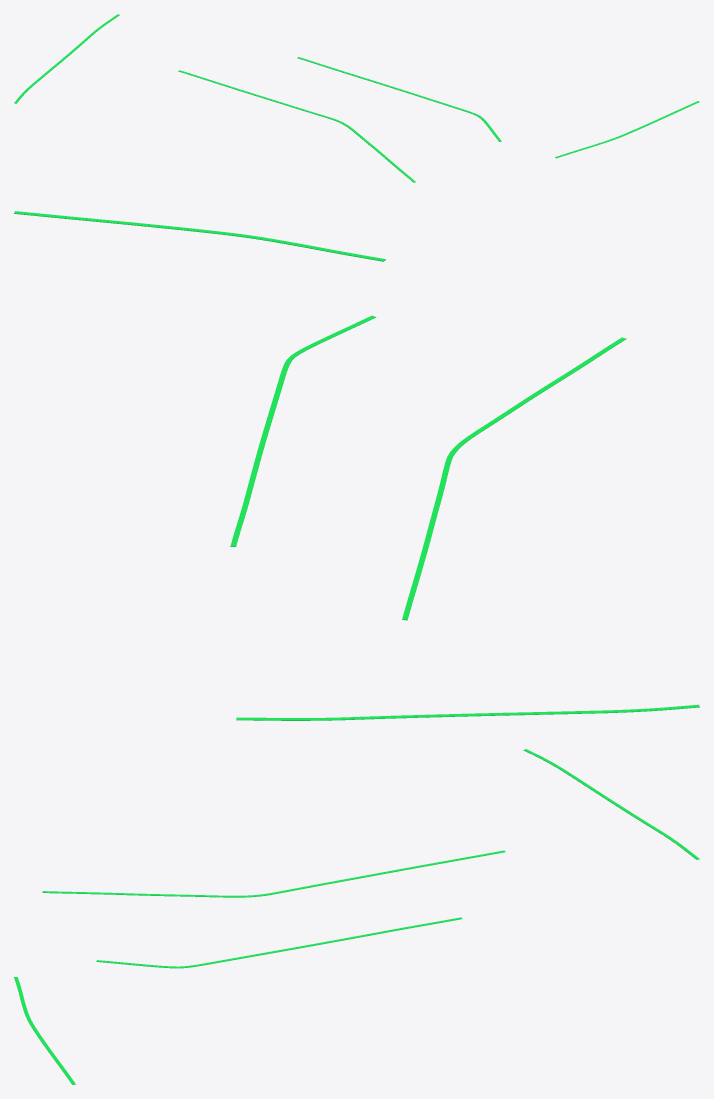
Rendered from SingaporeDrs.glb.
3 renders of one model, top to bottom at view 1: azimuth 30°, elevation 25°; view 2: azimuth 150°, elevation 25°; view 3: azimuth 270°, elevation 25°, orthographic. The views are drawn at different scales.
Parts seen in each view (by area): view 1: DrsStrip_1, DrsStrip_3, DrsStrip_4, DrsStrip_2; view 2: DrsStrip_1, DrsStrip_3, DrsStrip_4, DrsStrip_2; view 3: DrsStrip_1, DrsStrip_3, DrsStrip_4.
Part boxes in pixels (box(x1,y1,x2,y2)): DrsStrip_1: box(178, 70, 415, 182); DrsStrip_3: box(297, 57, 501, 141); DrsStrip_4: box(14, 14, 119, 103); DrsStrip_2: box(555, 101, 699, 158); DrsStrip_1: box(402, 337, 626, 620); DrsStrip_3: box(230, 315, 376, 546); DrsStrip_4: box(236, 704, 699, 720); DrsStrip_2: box(14, 211, 385, 261); DrsStrip_1: box(42, 850, 505, 897); DrsStrip_3: box(96, 917, 462, 968); DrsStrip_4: box(523, 749, 699, 859).
Bounding box in the file's own units: 14.65 × 0.006 × 12.66.
